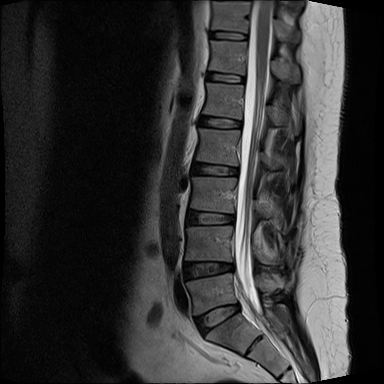Lumbar Disc Bulge (LDB): (186, 298, 246, 344), (174, 257, 242, 285)
Normal IVD: (182, 205, 239, 230), (187, 157, 243, 180), (192, 112, 246, 133), (203, 68, 248, 86), (205, 28, 250, 43)
Spinal Stenosis (SS): (231, 297, 245, 316), (227, 257, 240, 277)
